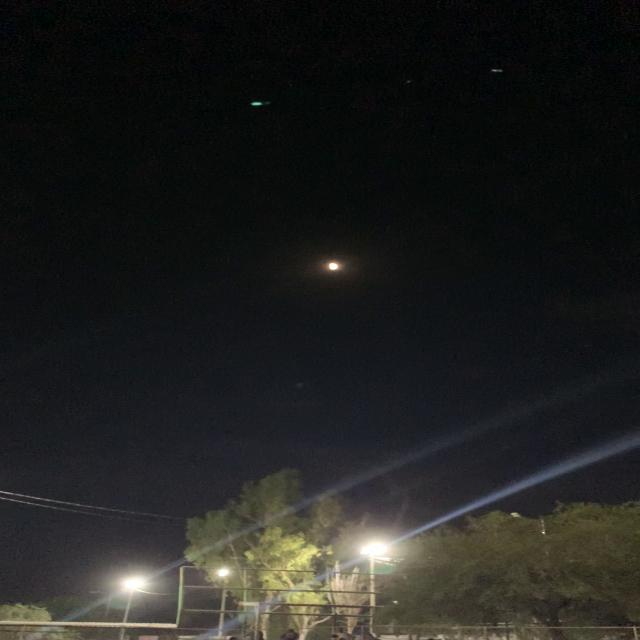moon: (310, 254, 357, 284)
